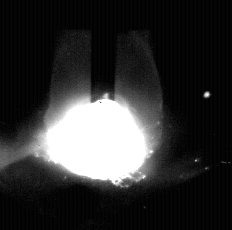arame: (91, 0, 116, 103)
poca: (43, 0, 164, 230)
